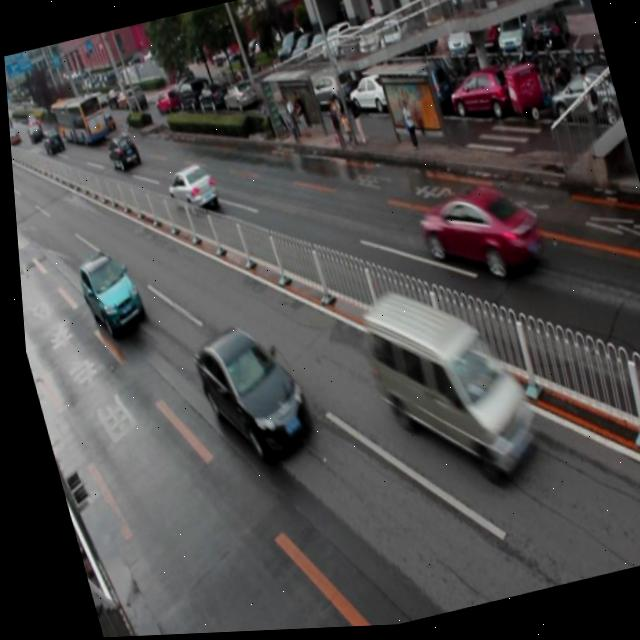car: (182, 318, 312, 474), (409, 176, 548, 298), (70, 245, 146, 344), (160, 159, 218, 218), (102, 132, 139, 175)
truck: (345, 271, 542, 510)
